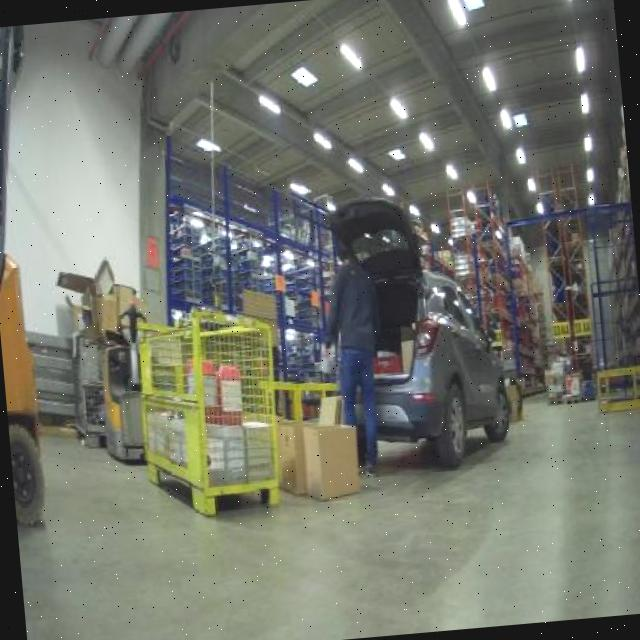pallet: (557, 388, 597, 407), (544, 392, 568, 413)
